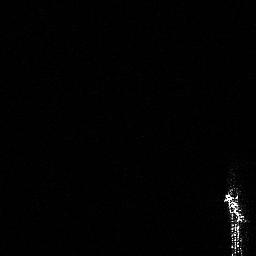ship: (221, 179, 251, 256)
